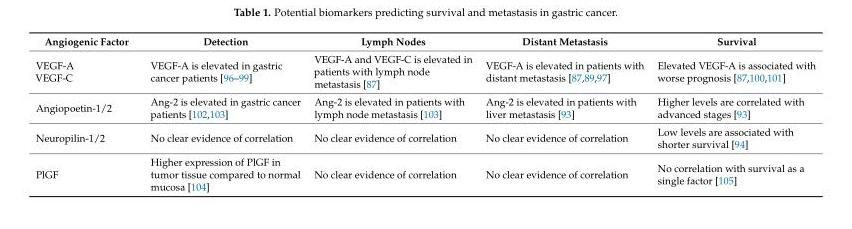table: (34, 34, 814, 192)
table column: (306, 34, 478, 192), (478, 34, 649, 192), (138, 34, 306, 192), (649, 34, 814, 192), (34, 34, 138, 192)
table column header: (34, 34, 814, 49)
table row: (34, 49, 814, 92), (34, 152, 814, 192), (34, 92, 814, 122), (34, 122, 814, 152), (34, 34, 814, 49)
